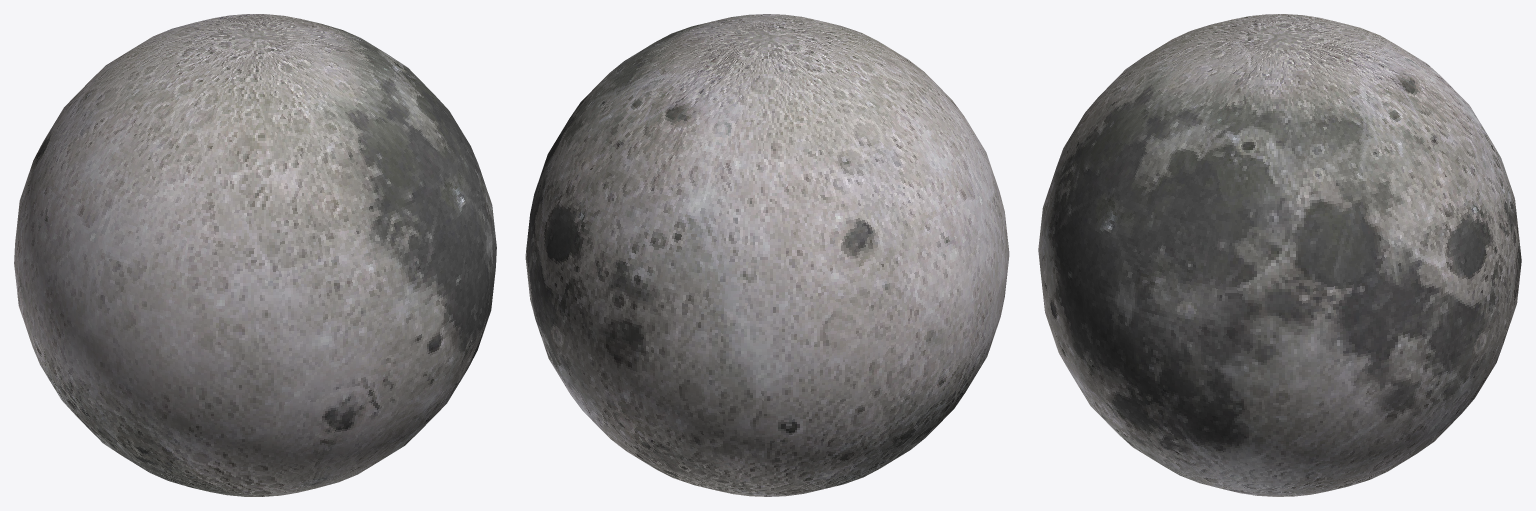
3 renders of one model, left to right at view 1: azimuth 30°, elevation 25°; view 2: azimuth 150°, elevation 25°; view 3: azimuth 270°, elevation 25°, orthographic.
Parts seen in each view (by area): view 1: moon; view 2: moon; view 3: moon.
Part boxes in pixels (x1,y1,x2,y2): moon: (14,14,496,496); moon: (525,14,1009,496); moon: (1038,14,1521,496).
Size of the model in its own units: 1.64 by 1.64 by 1.64.
Materials: 1 (1 with a texture image).
